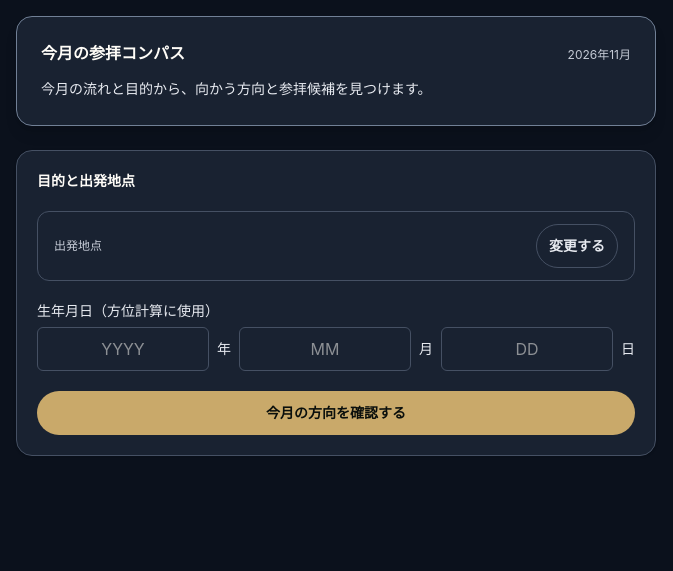
CompassClient › 目的・出発地点・生年月日が未入力のまま送信すると、それぞれ個別のエラーを出しAPIを呼ばない
The image size is (673, 571).
Click the button "今月の方向を確認する". click: click(336, 413)
box: top-left (37, 391), bottom-right (635, 435)
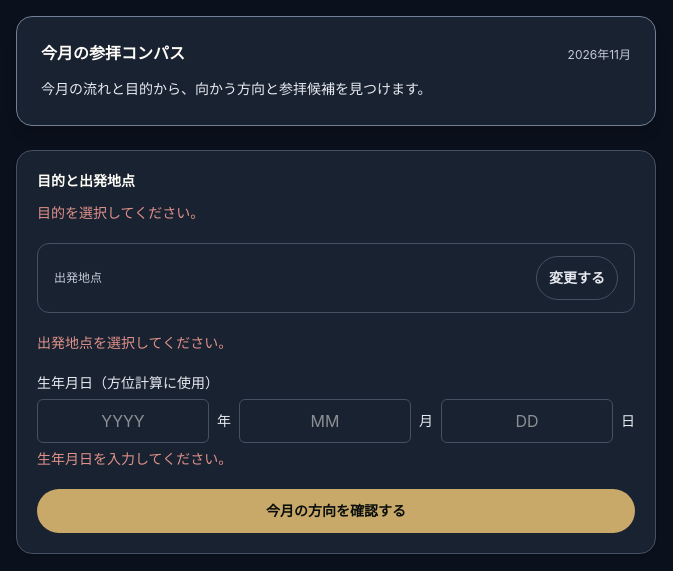
Result: the text "出発地点を選択してください。" is shown at top-left (37, 334), bottom-right (232, 351)
Result: the text "生年月日を入力してください。" is shown at top-left (37, 450), bottom-right (232, 467)
Result: the text "目的を選択してください。" is shown at top-left (37, 204), bottom-right (204, 221)
